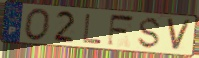2: (53, 10, 78, 45)
F: (106, 13, 136, 48)
L: (81, 13, 104, 46)
O: (24, 7, 52, 43)
S: (136, 16, 164, 51)
V: (165, 17, 193, 53)
